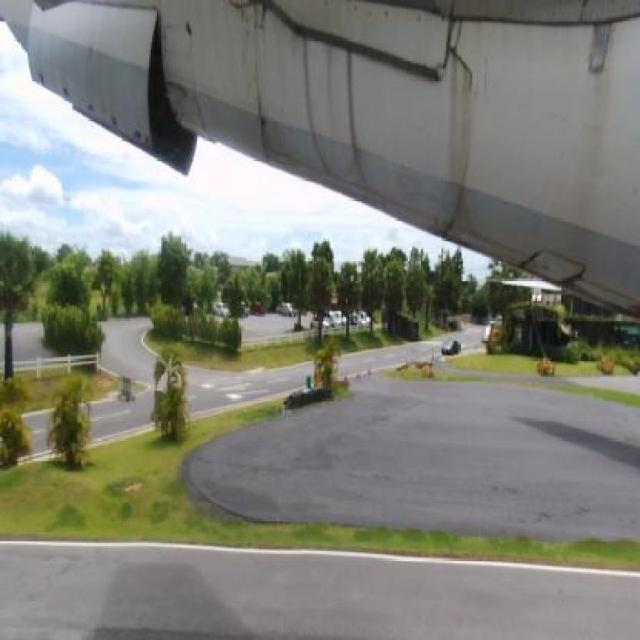Rust: (292, 22, 379, 198), (570, 21, 622, 282), (225, 1, 289, 164), (438, 29, 482, 242), (160, 71, 208, 140), (169, 12, 208, 52), (128, 123, 157, 157), (104, 106, 128, 139), (34, 64, 57, 98), (81, 93, 101, 122), (61, 80, 76, 103)
Scartch: (237, 6, 268, 88), (475, 54, 496, 86)
